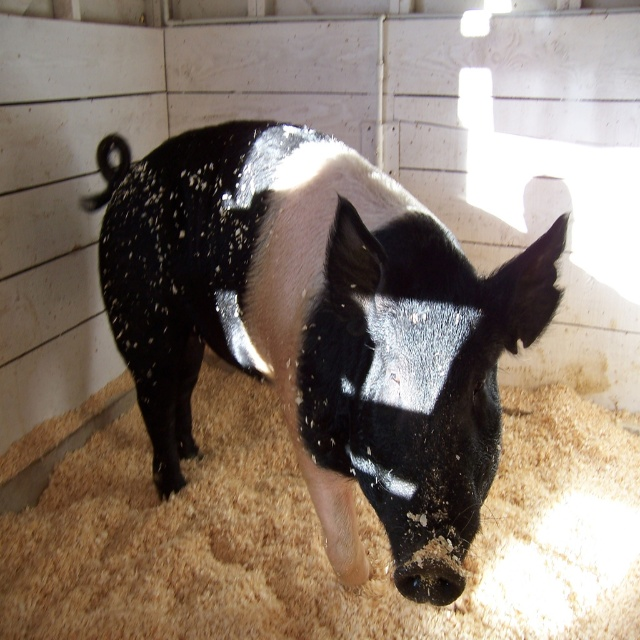Pig: (78, 117, 572, 605)
